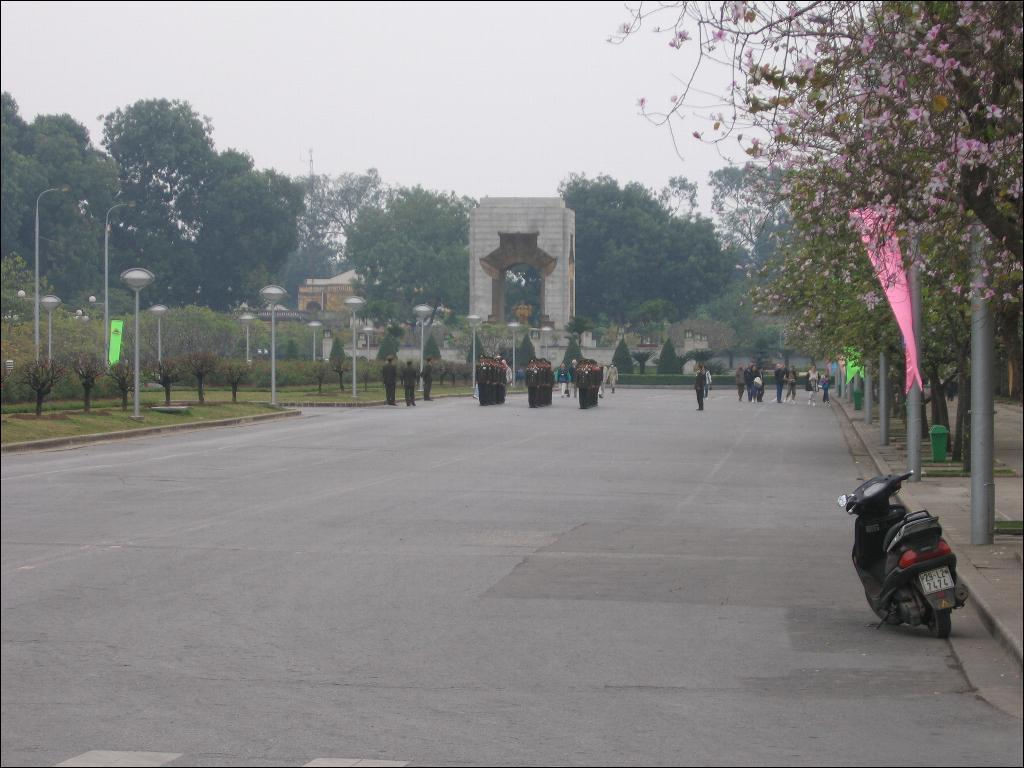Tree: (0, 88, 842, 326), (604, 0, 1022, 463), (94, 88, 215, 194)
